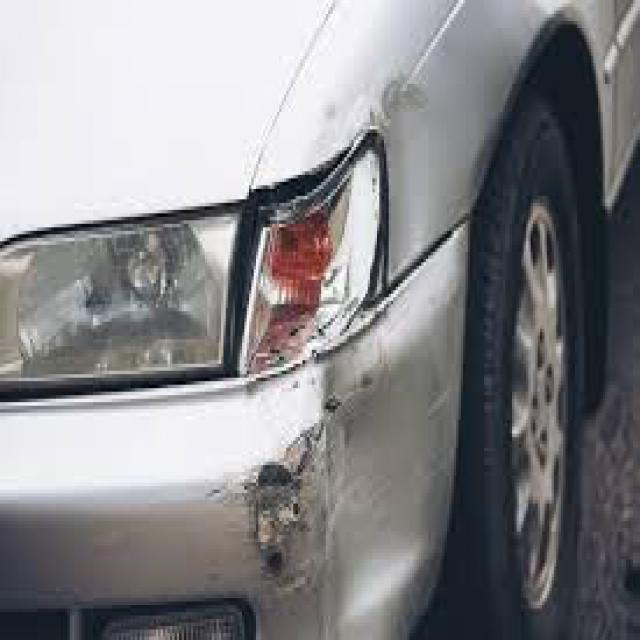Headlight-Damage: (217, 101, 422, 384)
front-bumper-dent: (12, 381, 473, 636)
